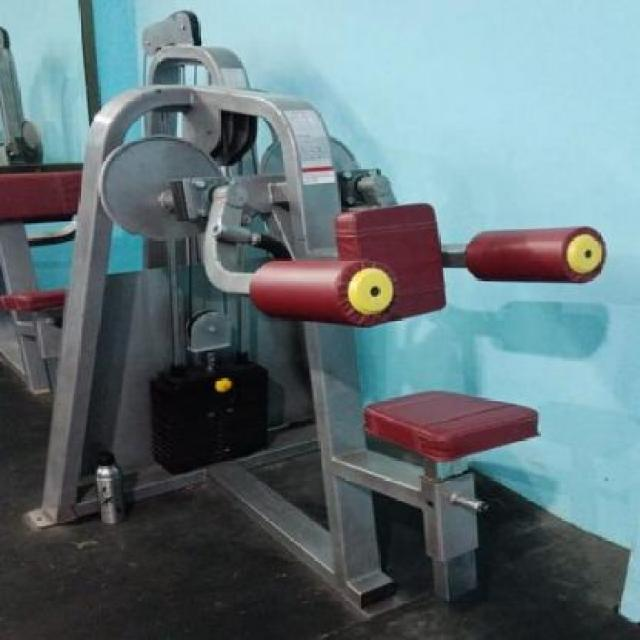lateral raises machine: (78, 201, 608, 614)
